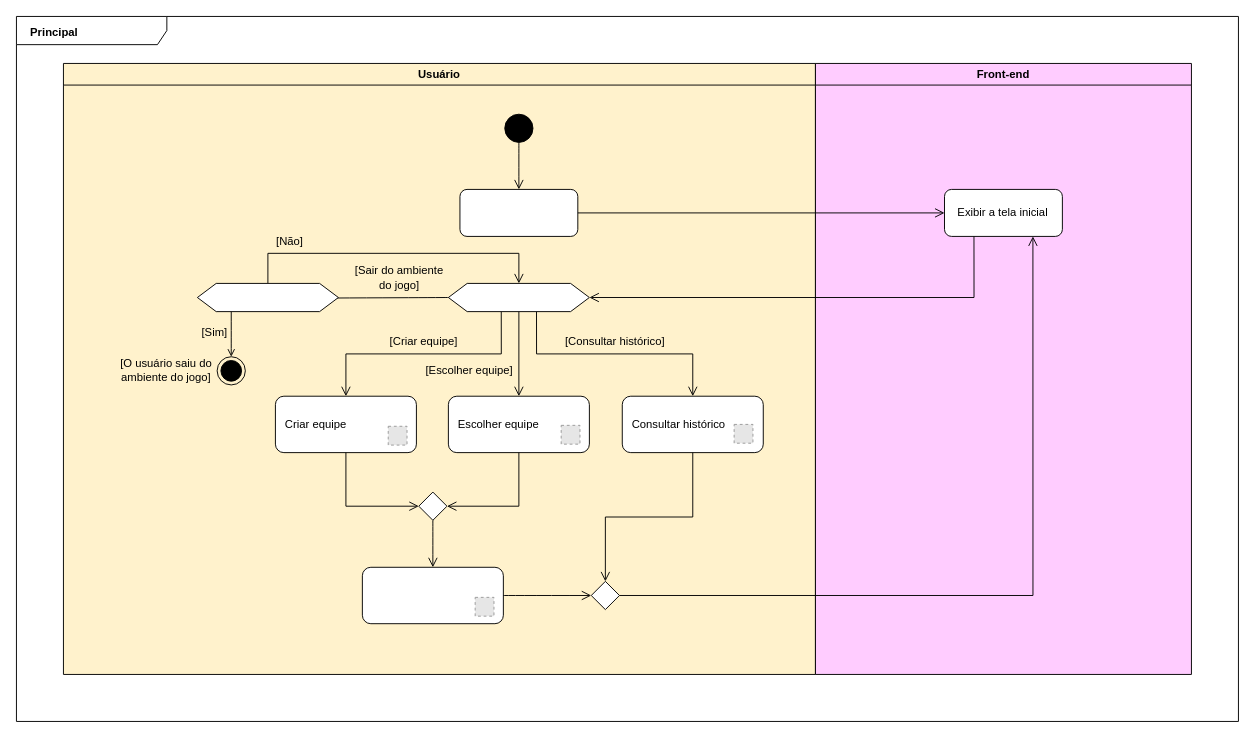
The diagram is 1255 pixels wide and 738 high, and some of its shapes have lost their labels. Grey dashed boxes stand in for pictures. The box of each missing label's shape, as (x1, y1, x2, y2) in pixels:
Acessar o ambiente do jogo: (459, 188, 578, 236)
Confirmar a saída: (196, 282, 338, 312)
Escolher uma opção: (447, 282, 589, 312)
Jogar: (361, 566, 503, 624)
